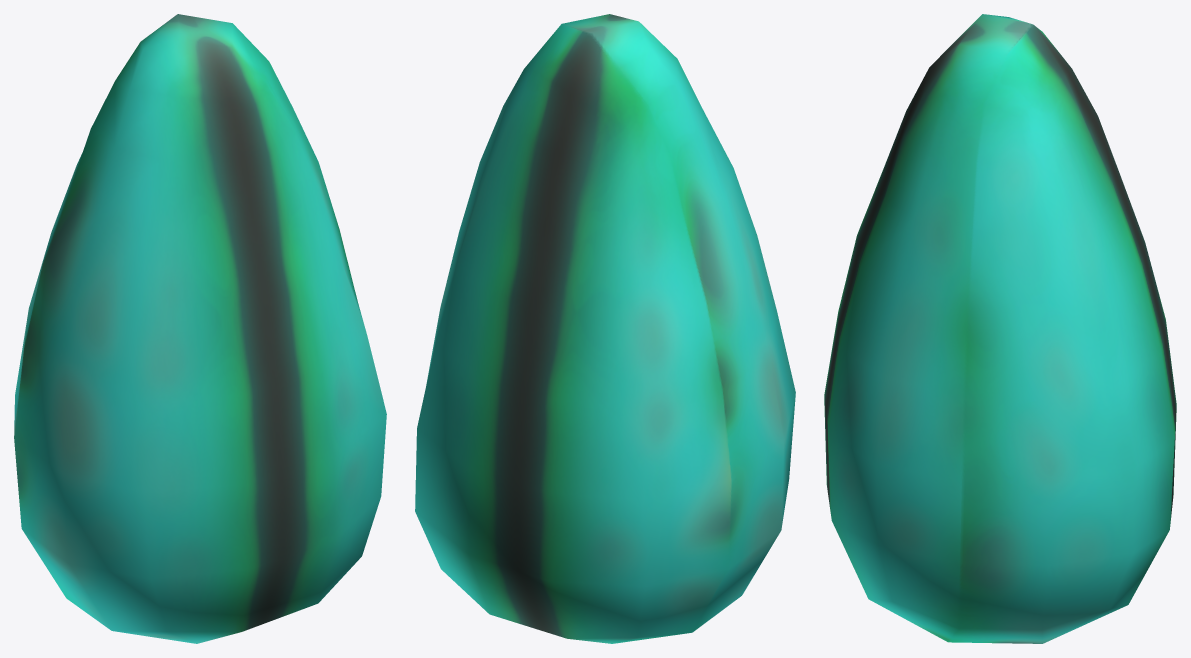
Rendered from SM_Gem_B_Bronze.fbx.
3 views of the same model, side by side, from view 1: azimuth 30°, elevation 25°; view 2: azimuth 150°, elevation 25°; view 3: azimuth 270°, elevation 25° (orthographic).
Visible parts, largest first — view 1: SM_Gem_B_Bronze_LOD0; view 2: SM_Gem_B_Bronze_LOD0; view 3: SM_Gem_B_Bronze_LOD0.
Boxes of the visible parts, x1=… form: SM_Gem_B_Bronze_LOD0: x1=14, y1=14, x2=386, y2=643; SM_Gem_B_Bronze_LOD0: x1=415, y1=14, x2=795, y2=643; SM_Gem_B_Bronze_LOD0: x1=824, y1=14, x2=1176, y2=643.
Size of the model in its own units: 2.74 by 2.69 by 5.02.
Materials: 1 (1 with a texture image).
